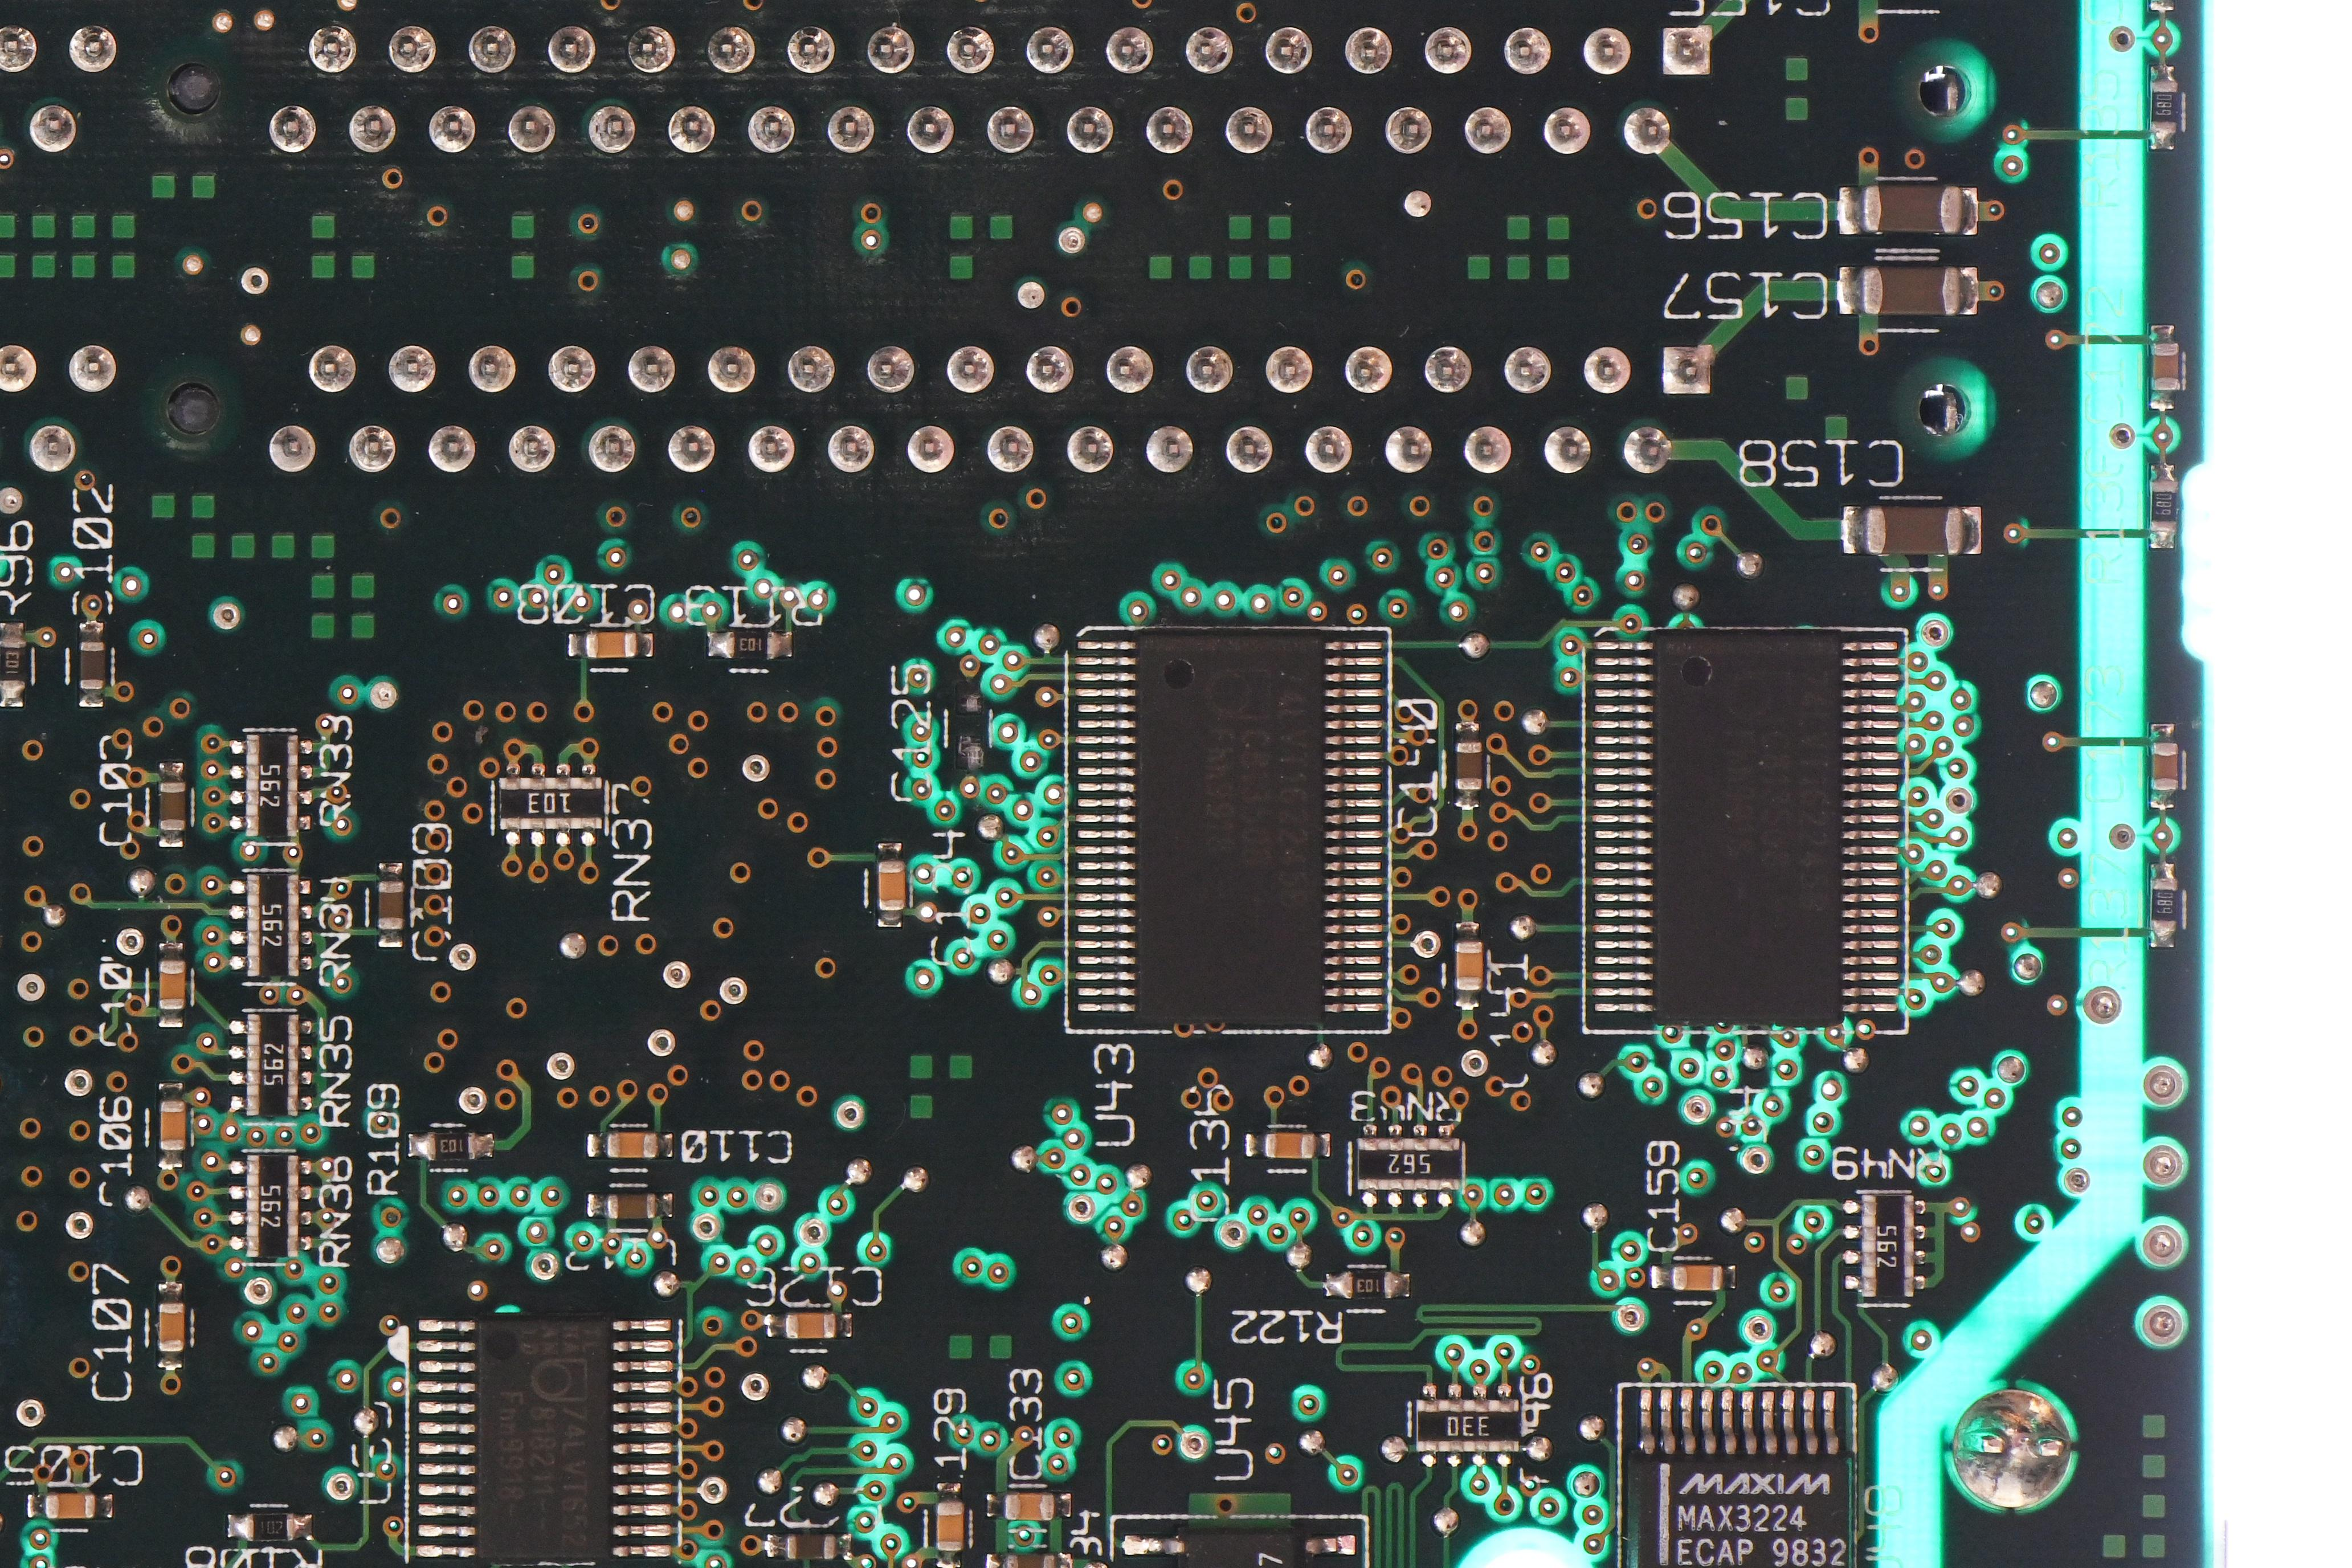ICs: (1125, 623, 1328, 1033), (1647, 625, 1850, 1033), (469, 1311, 616, 1566)
capacitors: (1859, 180, 1969, 240), (1857, 261, 1967, 320), (1860, 500, 1969, 560), (999, 1487, 1061, 1526), (2146, 336, 2184, 397), (779, 1307, 842, 1344), (873, 856, 912, 915), (581, 625, 642, 661), (75, 633, 112, 695), (602, 1127, 661, 1164), (1668, 1260, 1727, 1297), (154, 1094, 189, 1155), (154, 777, 191, 835), (931, 1498, 968, 1556), (602, 1188, 661, 1223), (1260, 1129, 1320, 1164), (1452, 935, 1487, 994), (154, 955, 189, 1013), (40, 1487, 98, 1523), (1452, 737, 1487, 795), (154, 1298, 187, 1358), (780, 1531, 840, 1565), (2149, 737, 2182, 796), (373, 877, 408, 933), (1857, 0, 1967, 2)
resistors: (494, 772, 609, 835), (1853, 1188, 1916, 1300), (242, 1150, 303, 1262), (240, 730, 301, 842), (242, 868, 303, 980), (242, 1008, 303, 1120), (1412, 1395, 1523, 1456), (1353, 1134, 1463, 1193), (2146, 873, 2186, 938), (2147, 75, 2184, 143), (719, 627, 784, 663), (2146, 474, 2182, 537), (422, 1127, 480, 1165), (1335, 1267, 1396, 1302), (0, 633, 33, 695)
